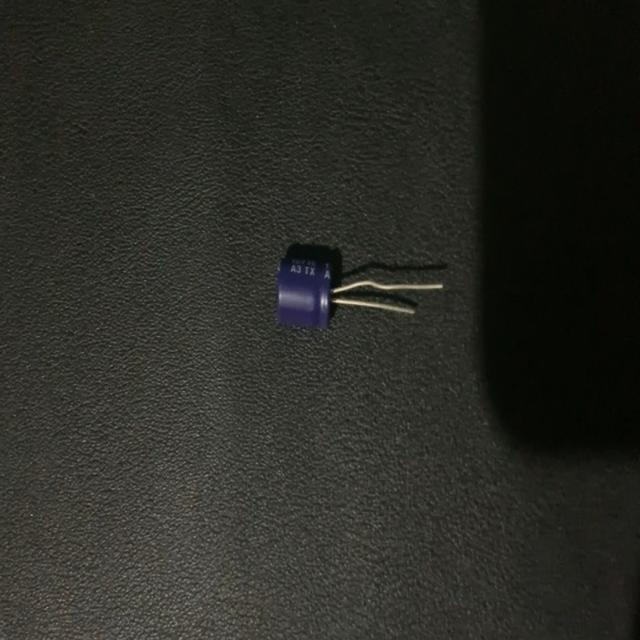capacitor: (273, 252, 447, 330)
